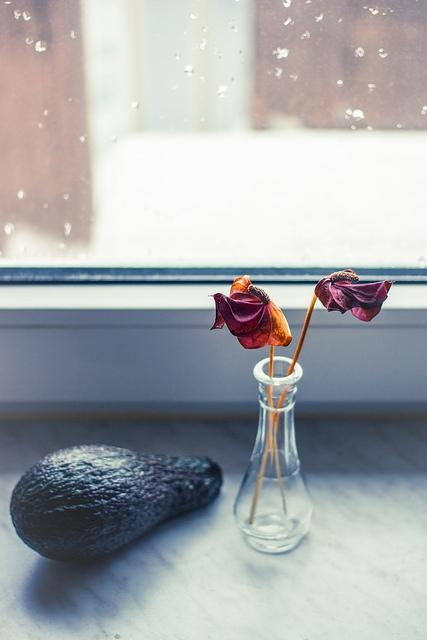avocado: (11, 443, 224, 562)
